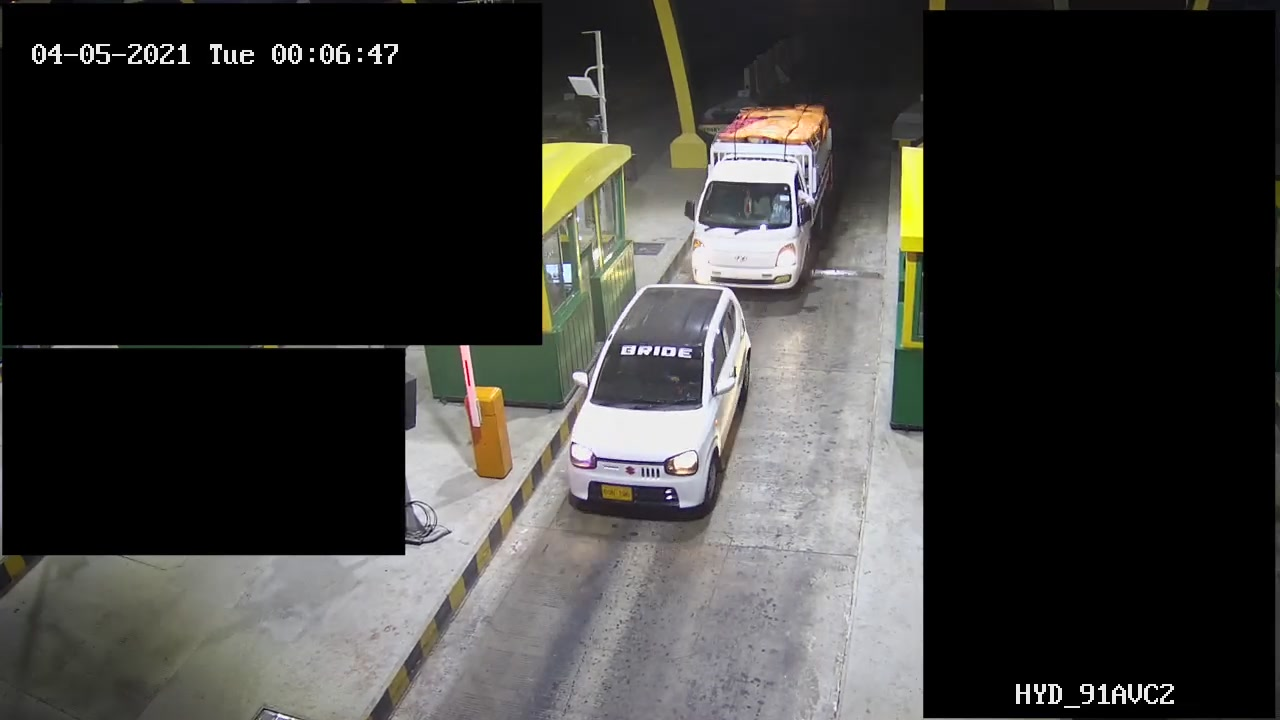F1: (554, 282, 767, 523)
F2: (682, 92, 844, 287)
